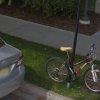Car: (2, 34, 28, 99)
